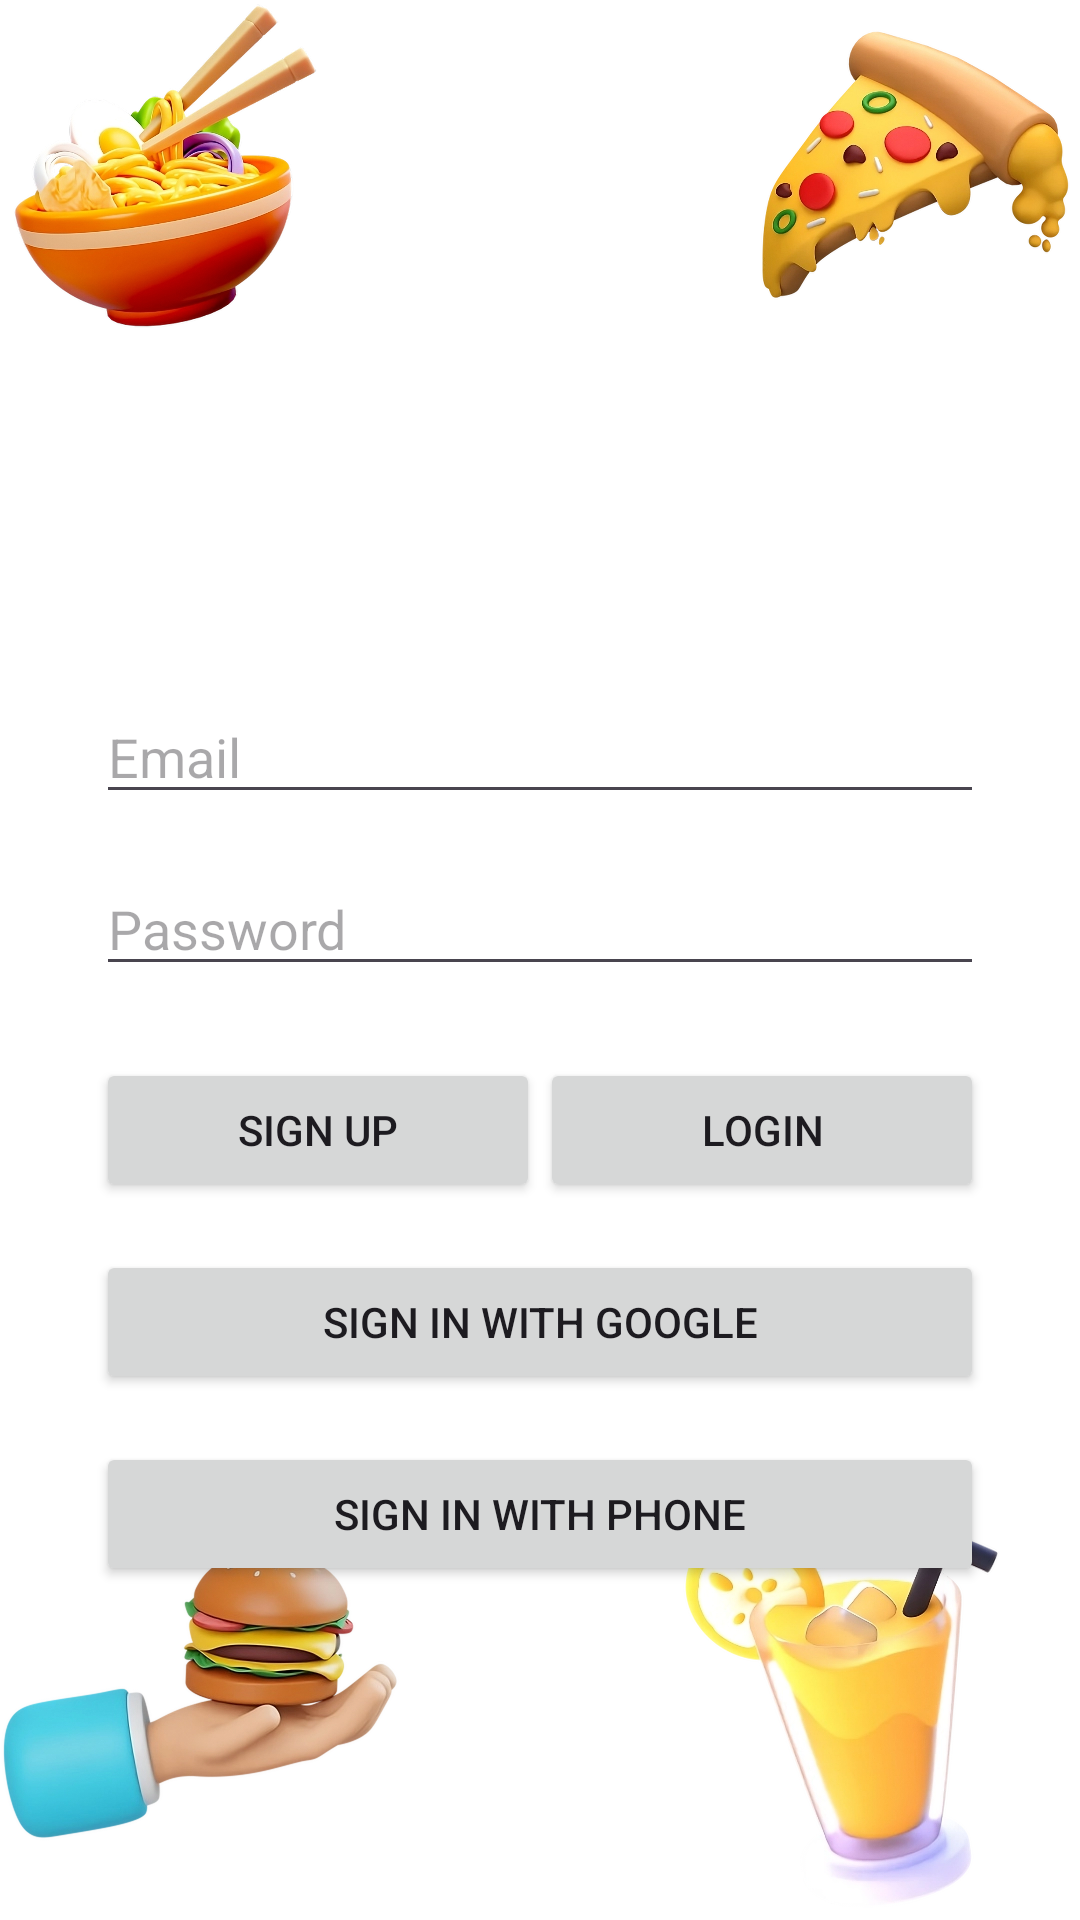

Screen size 1080x1920. Icon name, then its center in pixels as point (x, y):
noodles: point (165, 166)
pizzaslice: point (915, 165)
